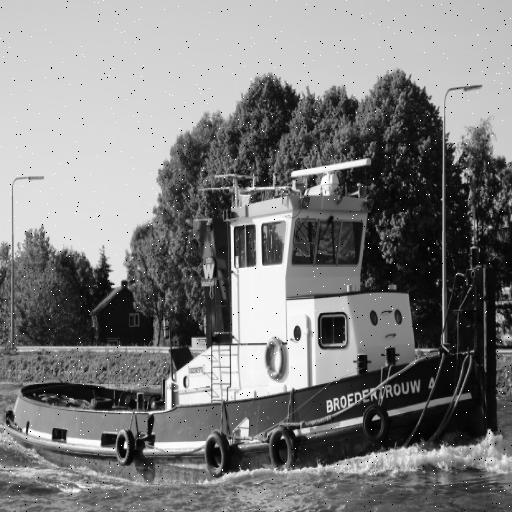tugboat: (1, 157, 502, 498)
